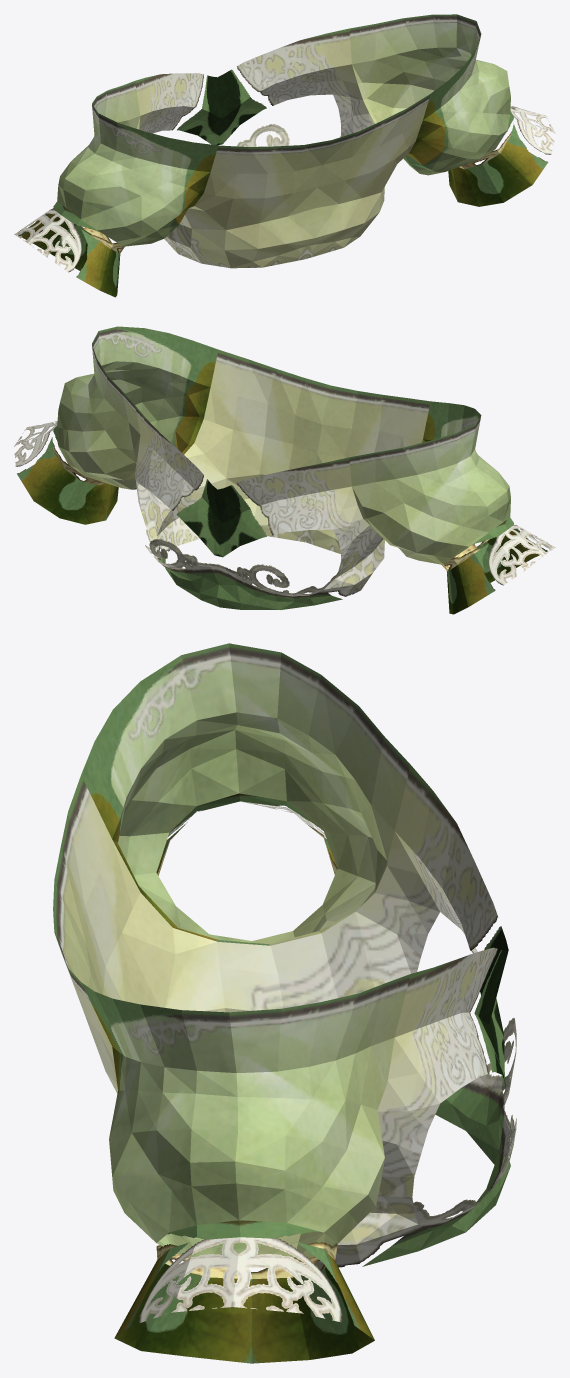
File: skinSource0JME.obj
3 views of the same model, one above another, from view 1: azimuth 30°, elevation 25°; view 2: azimuth 150°, elevation 25°; view 3: azimuth 270°, elevation 25° (orthographic). The views are drawn at different scales.
Parts seen in each view (by area): view 1: skinSource0JME; view 2: skinSource0JME; view 3: skinSource0JME.
Boxes of the visible parts, x1=… form: skinSource0JME: x1=14, y1=14, x2=555, y2=297; skinSource0JME: x1=14, y1=326, x2=555, y2=614; skinSource0JME: x1=53, y1=643, x2=516, y2=1363.
Bounding box in the file's own units: 44.14 × 14.78 × 17.07.
